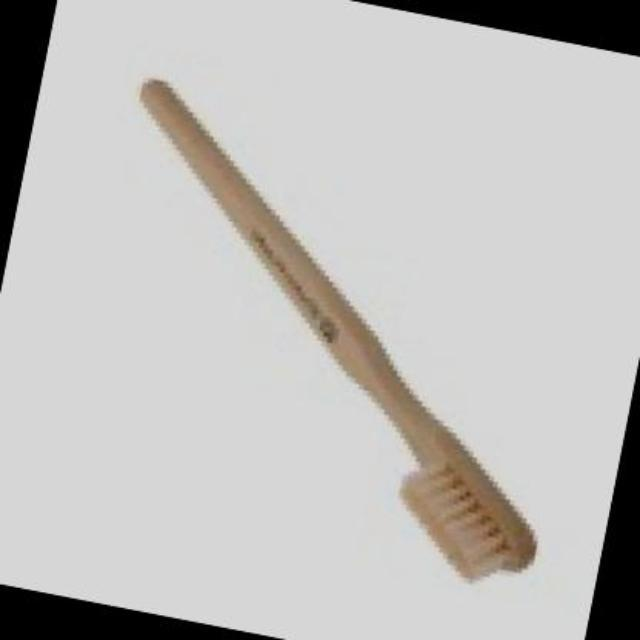toothbrush: (45, 39, 620, 632)
